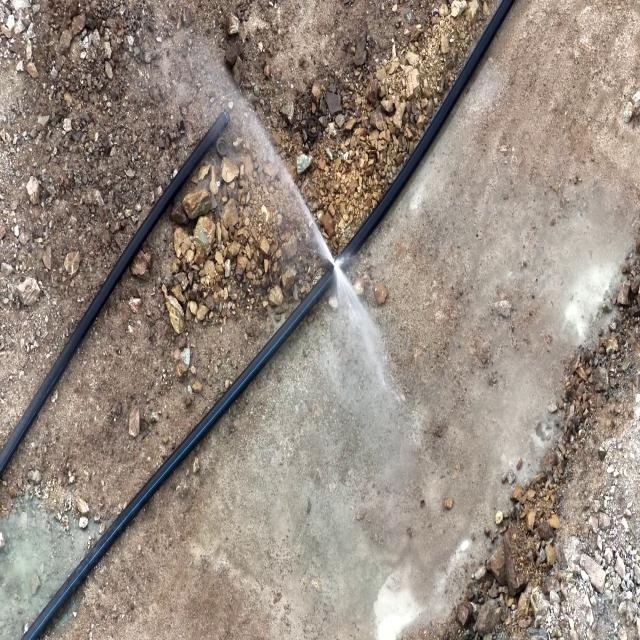leak: (239, 95, 399, 391)
